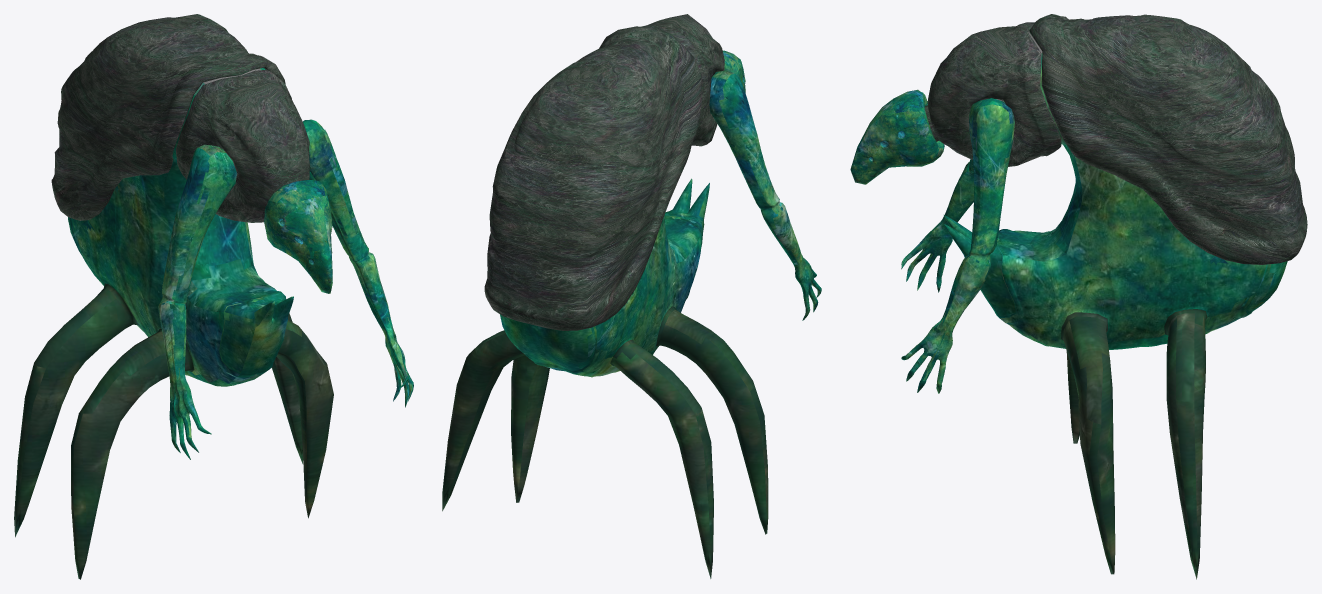
File: Andar.0005.obj
The picture shows the model from 3 angles, left to right: view 1: azimuth 30°, elevation 25°; view 2: azimuth 150°, elevation 25°; view 3: azimuth 270°, elevation 25°; orthographic projection. The views are drawn at different scales.
Parts seen in each view (by area): view 1: pCube14; view 2: pCube14; view 3: pCube14.
Boxes of the visible parts, <box> form: pCube14: <box>14,14,413,579</box>; pCube14: <box>442,14,821,578</box>; pCube14: <box>850,14,1307,579</box>.
Size of the model in its own units: 2.33 by 3.92 by 3.26.
Materials: 5 (4 with a texture image).
